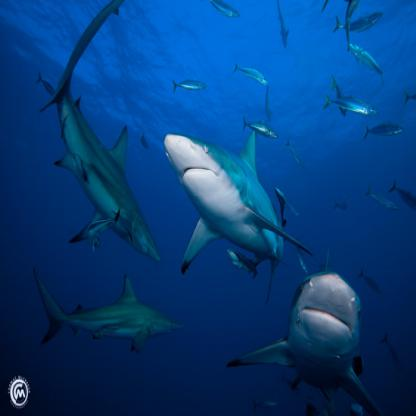Shark -Selachimorpha-: (41, 16, 161, 263), (162, 127, 314, 306), (226, 245, 383, 416), (33, 268, 184, 354)
